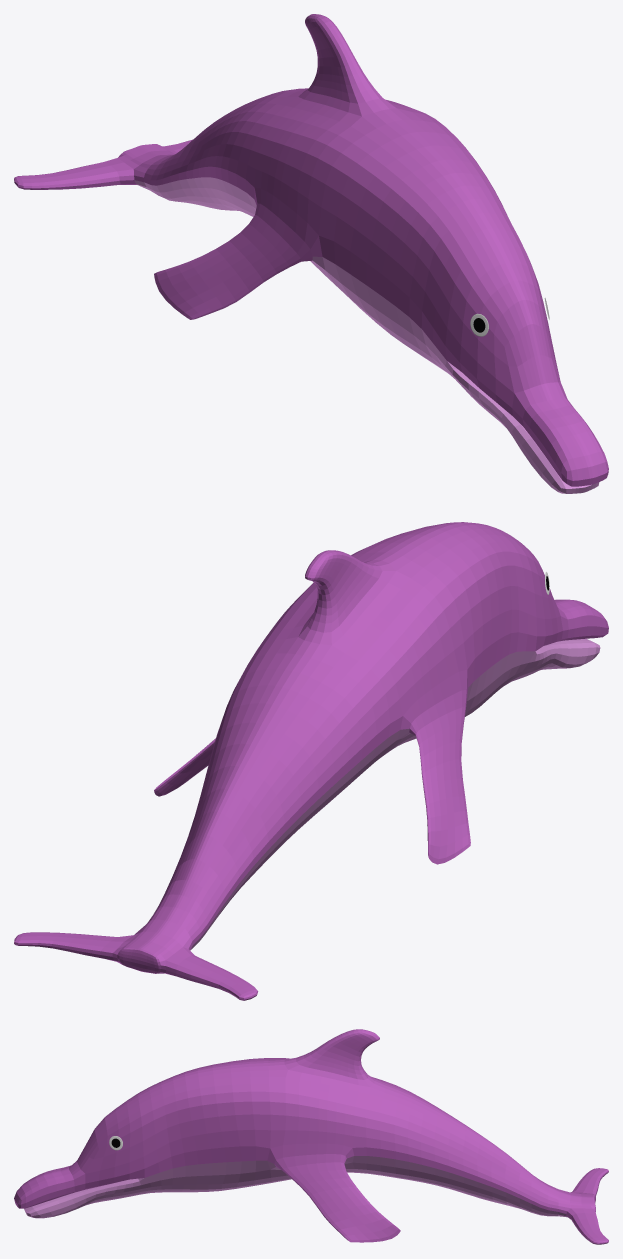
The model's file is SeaBuddyDolphin.fbx.
3 views of the same model, one above another, from view 1: azimuth 30°, elevation 25°; view 2: azimuth 150°, elevation 25°; view 3: azimuth 270°, elevation 25° (orthographic). The views are drawn at different scales.
Parts seen in each view (by area): view 1: Dolphin; view 2: Dolphin; view 3: Dolphin.
Part boxes in pixels (left/top/right/bottom): Dolphin: left=14, top=14, right=608, bottom=493; Dolphin: left=14, top=522, right=608, bottom=1000; Dolphin: left=14, top=1029, right=608, bottom=1244.
Bounding box in the file's own units: 456 × 451 × 1309.
